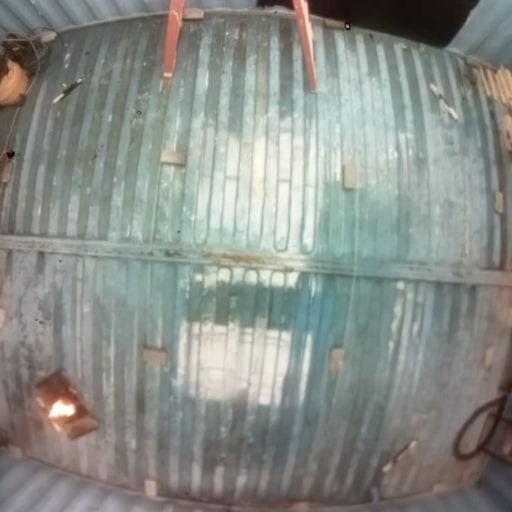Fire: (49, 401, 75, 419)
